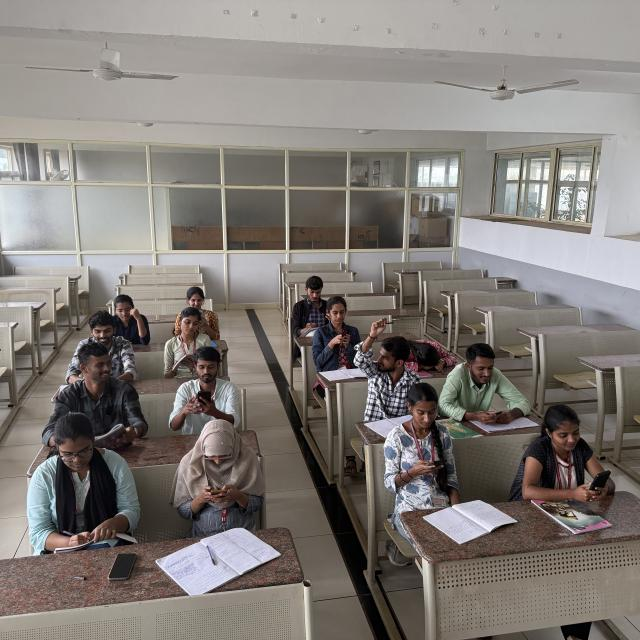Hand Rising: (353, 315, 416, 419)
Reading: (161, 310, 219, 379)
Sleeping: (405, 323, 456, 373)
Using Phone: (172, 424, 271, 531), (522, 404, 624, 504), (384, 378, 462, 498), (443, 344, 533, 426), (166, 346, 242, 429), (315, 297, 364, 367)
Writing: (29, 414, 142, 548), (287, 279, 328, 340)
